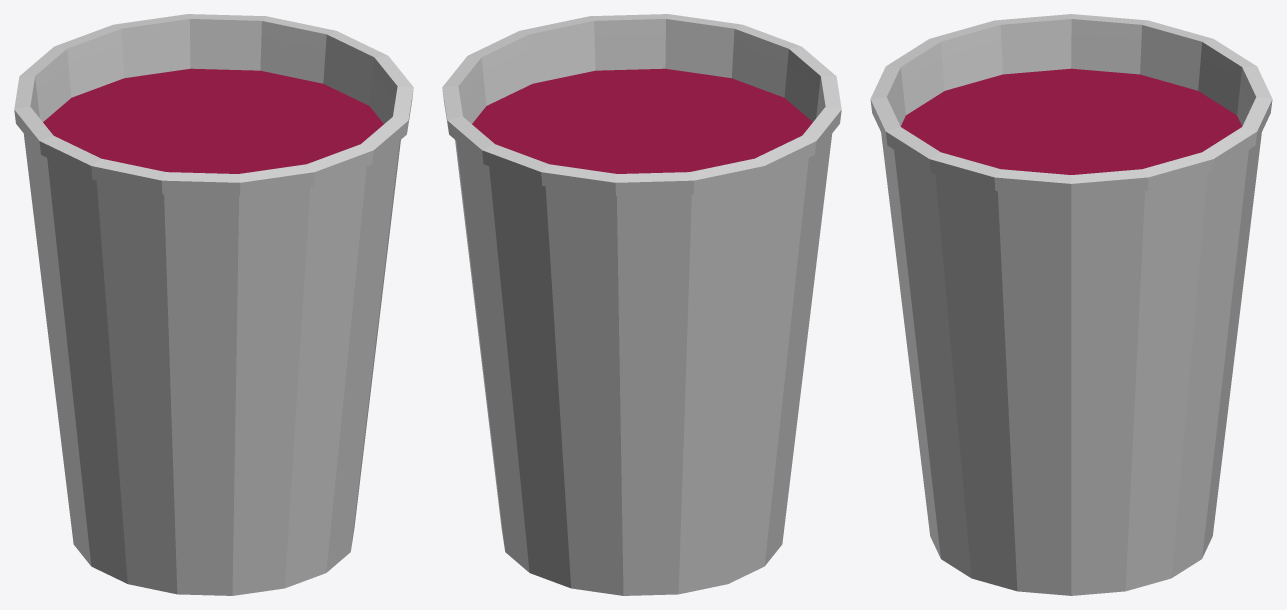
The model's file is WineCupAnim.glb.
The picture shows the model from 3 angles, left to right: view 1: azimuth 30°, elevation 25°; view 2: azimuth 150°, elevation 25°; view 3: azimuth 270°, elevation 25°; orthographic projection.
Visible parts, largest first — view 1: Cup.001, Circle; view 2: Cup.001, Circle; view 3: Cup.001, Circle.
Boxes of the visible parts, bbox=[...] form: Cup.001: bbox=[14, 14, 413, 595]; Circle: bbox=[43, 68, 383, 173]; Cup.001: bbox=[442, 14, 841, 595]; Circle: bbox=[472, 68, 812, 173]; Cup.001: bbox=[870, 14, 1272, 595]; Circle: bbox=[900, 68, 1242, 174].
Bounding box in the file's own units: 0.4698 × 0.5663 × 0.4698.
